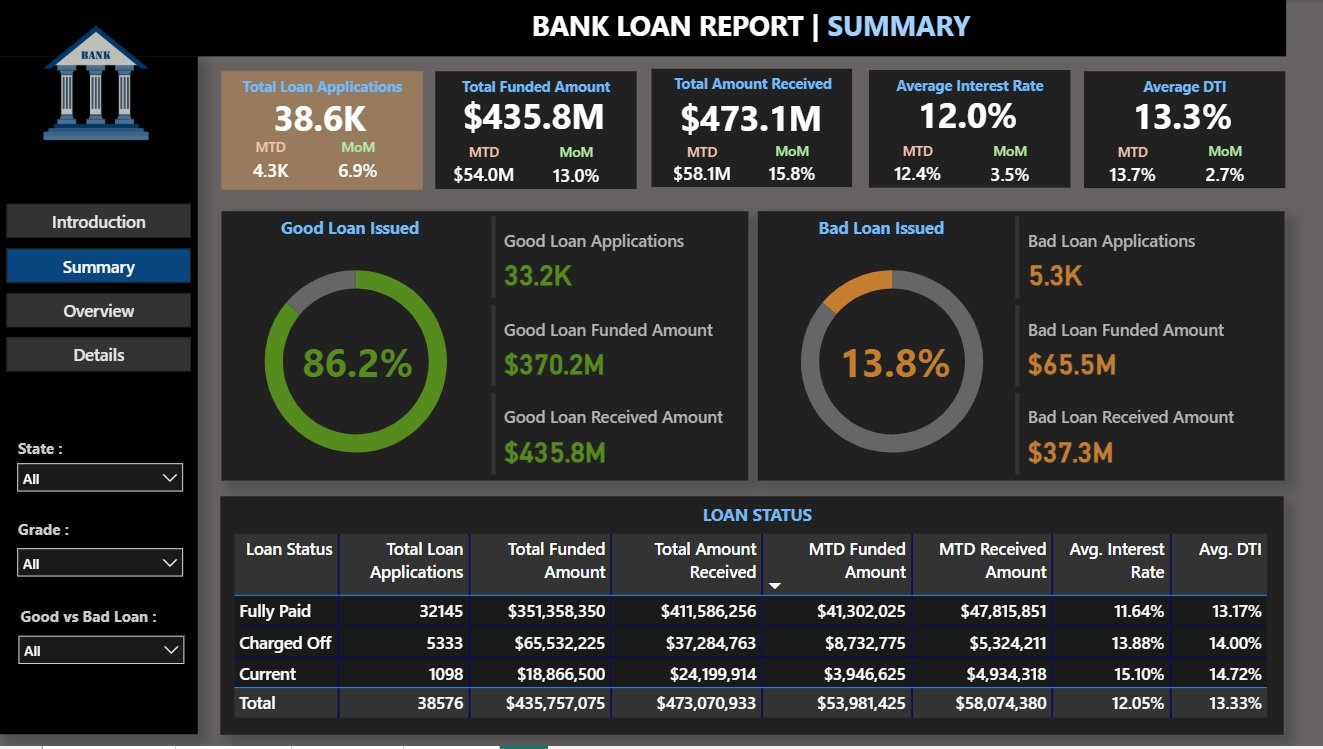

Layout of this report page (visuals, bound fields, positions):
{"tool":"powerbi","page":{"name":"Summary","canvas":[1280,720],"ordinal":1},"visuals":[{"type":"shape","box":[629.2,66.4,193.8,114.2],"z":0,"group":"g3"},{"type":"shape","box":[839.7,67.5,194.5,114],"z":0,"group":"g4"},{"type":"shape","box":[214.3,68.6,194.3,114.3],"z":0,"group":"g1"},{"type":"shape","box":[421.4,68.6,194.5,114],"z":0,"group":"g2"},{"type":"shape","box":[1047.1,68.6,194.5,113.1],"z":0,"group":"g5"},{"type":"shape","box":[214.3,204.3,508.6,260],"z":0},{"type":"card","fields":{"Values":["table_measures.avg_interest_rate"]},"box":[851.5,82.1,165.9,58.4],"z":1000,"group":"g4"},{"type":"card","fields":{"Values":["table_measures.avg_DTI"]},"box":[1058.9,83.1,165.9,57.9],"z":1000,"group":"g5"},{"type":"card","fields":{"Values":["table_measures.total_loan_appl"]},"box":[247.2,83.2,124.3,61.3],"z":1000,"group":"g1"},{"type":"card","fields":{"Values":["table_measures.total_funded_amt"]},"box":[433.2,83.2,165.9,58.4],"z":1000,"group":"g2"},{"type":"card","fields":{"Values":["table_measures.total_received_amt"]},"box":[643.2,85.3,163.1,55.8],"z":1000,"group":"g3"},{"type":"donutChart","fields":{"Category":["financial_loan.Good vs Band Loan"],"Y":["table_measures.total_loan_appl"]},"box":[220,234.3,250,230],"z":1000},{"type":"shape","box":[0,0,1242.3,54.5],"z":2000},{"type":"textbox","box":[632.2,67,191,41.6],"z":2000,"group":"g3"},{"type":"textbox","box":[839.7,67.5,194.5,38.9],"z":2000,"group":"g4"},{"type":"textbox","box":[214.3,68.6,194.3,39],"z":2000,"group":"g1"},{"type":"textbox","box":[421.4,68.6,194.5,38.9],"z":2000,"group":"g2"},{"type":"textbox","box":[1047.1,68.6,194.5,38.6],"z":2000,"group":"g5"},{"type":"shape","box":[0,54.7,191.9,654.7],"z":3000},{"type":"card","title":"MTD","fields":{"Values":["table_measures.MTD_loan_appl"]},"box":[235.7,132.7,51.4,50.2],"z":3000,"group":"g1"},{"type":"card","title":"MTD","fields":{"Values":["table_measures.MTD_interest_rate"]},"box":[851.5,136.3,70.1,48.6],"z":3000,"group":"g4"},{"type":"card","title":"MTD","fields":{"Values":["table_measures.MTD_avg_DTI"]},"box":[1058.9,136.9,70.1,48.3],"z":3000,"group":"g5"},{"type":"card","title":"MTD","fields":{"Values":["table_measures.MTD_received_amt"]},"box":[643.2,137.1,68.9,46.5],"z":3000,"group":"g3"},{"type":"card","title":"MTD","fields":{"Values":["table_measures.MTD_funded_amt"]},"box":[433.2,137.4,70.1,48.6],"z":3000,"group":"g2"},{"type":"card","title":"MoM","fields":{"Values":["table_measures.MOM_loan_appl"]},"box":[320,132.7,51.4,50.2],"z":4000,"group":"g1"},{"type":"card","title":"MoM","fields":{"Values":["table_measures.MOM_interest_rate"]},"box":[946.6,136.1,57.8,49.7],"z":4000,"group":"g4"},{"type":"card","title":"MoM","fields":{"Values":["table_measures.MOM_avg_DTI"]},"box":[1154,136.7,57.8,49.3],"z":4000,"group":"g5"},{"type":"card","title":"MoM","fields":{"Values":["table_measures.MOM_received_amt"]},"box":[736.7,136.9,56.8,47.5],"z":4000,"group":"g3"},{"type":"card","title":"MoM","fields":{"Values":["table_measures.MOM_funded_amt"]},"box":[528.3,137.2,57.8,49.7],"z":4000,"group":"g2"},{"type":"textbox","box":[13.8,417,119.7,38.5],"z":4000},{"type":"textbox","box":[235.7,204.3,207.1,34.3],"z":5000},{"type":"card","fields":{"Values":["table_measures.good_loan_per"]},"box":[287.1,321.4,118.6,57.1],"z":6000},{"type":"textbox","box":[509.2,1.4,447.3,49.5],"z":7000},{"type":"group","id":"g1","title":"Group 1","box":[214.3,68.6,194.3,114.3],"z":8000},{"type":"group","id":"g2","title":"Group 1","box":[421.4,68.6,194.3,118],"z":9000},{"type":"group","id":"g3","title":"Group 1","box":[629.2,66.4,194,118],"z":10000},{"type":"group","id":"g4","title":"Group 1","box":[839.7,67.5,194.5,118.2],"z":11000},{"type":"group","id":"g5","title":"Group 1","box":[1047.1,68.6,194.3,117.1],"z":12000},{"type":"shape","box":[732.9,204.3,508.6,260],"z":13000},{"type":"cardVisual","fields":{"Data":["table_measures.good_loan_appl","table_measures.good_loan_funded_amt","table_measures.good_loan_received_amt"]},"box":[470,204.3,252.9,260],"z":14000},{"type":"donutChart","fields":{"Category":["financial_loan.Good vs Band Loan"],"Y":["table_measures.total_loan_appl"]},"box":[737.1,234.3,250,230],"z":15000},{"type":"card","fields":{"Values":["table_measures.bad_loan_per"]},"box":[805.7,321.4,118.6,57.1],"z":16000},{"type":"textbox","box":[748.6,204.3,207.1,34.3],"z":17000},{"type":"cardVisual","fields":{"Data":["table_measures.bad_loan_appl","table_measures.bad_loan_funded_amt","table_measures.bad_loan_received_amt"]},"box":[975.7,204.3,252.9,260],"z":18000},{"type":"shape","box":[214,479.1,1026.7,230.2],"z":19000},{"type":"tableEx","fields":{"Values":["financial_loan.loan_status","table_measures.total_loan_appl","table_measures.total_funded_amt","table_measures.total_received_amt","table_measures.MTD_funded_amt","table_measures.MTD_received_amt","table_measures.avg_interest_rate","table_measures.avg_DTI"]},"box":[220.4,509.8,1008.5,200.4],"z":20000},{"type":"textbox","box":[646.8,479.8,170.3,34.5],"z":21000},{"type":"slicer","fields":{"Values":["financial_loan.address_state"]},"box":[6.9,436.3,180.3,50.9],"z":22000},{"type":"slicer","fields":{"Values":["financial_loan.grade"]},"box":[6.9,518.9,180.3,50.9],"z":23000},{"type":"textbox","box":[13.8,495.5,119.7,38.5],"z":24000},{"type":"pageNavigator","box":[6.9,196.8,178.9,163.8],"z":25000},{"type":"image","box":[0,1.4,187.2,156.9],"z":26000},{"type":"slicer","fields":{"Values":["financial_loan.Good vs Band Loan"]},"box":[8.3,602.8,180.3,50.9],"z":27000},{"type":"textbox","box":[15.1,579.4,163.8,38.5],"z":28000}]}

Visuals, with their boxes in screenshot pixels (x1, y1, x2, y2), scaled from the page's 1280x720 canvas onto the 1323x749 screenshot:
shape: (x1=650, y1=69, x2=851, y2=188)
shape: (x1=868, y1=70, x2=1069, y2=189)
shape: (x1=221, y1=71, x2=422, y2=190)
shape: (x1=436, y1=71, x2=637, y2=190)
shape: (x1=1082, y1=71, x2=1283, y2=189)
shape: (x1=221, y1=213, x2=747, y2=483)
card - table_measures.avg_interest_rate: (x1=880, y1=85, x2=1052, y2=146)
card - table_measures.avg_DTI: (x1=1094, y1=86, x2=1266, y2=147)
card - table_measures.total_loan_appl: (x1=256, y1=87, x2=384, y2=150)
card - table_measures.total_funded_amt: (x1=448, y1=87, x2=619, y2=147)
card - table_measures.total_received_amt: (x1=665, y1=89, x2=833, y2=147)
donutChart - financial_loan.Good vs Band Loan x table_measures.total_loan_appl: (x1=227, y1=244, x2=486, y2=483)
shape: (x1=0, y1=0, x2=1284, y2=57)
textbox: (x1=653, y1=70, x2=851, y2=113)
textbox: (x1=868, y1=70, x2=1069, y2=111)
textbox: (x1=221, y1=71, x2=422, y2=112)
textbox: (x1=436, y1=71, x2=637, y2=112)
textbox: (x1=1082, y1=71, x2=1283, y2=112)
shape: (x1=0, y1=57, x2=198, y2=738)
"MTD" card: (x1=244, y1=138, x2=297, y2=190)
"MTD" card: (x1=880, y1=142, x2=953, y2=192)
"MTD" card: (x1=1094, y1=142, x2=1167, y2=193)
"MTD" card: (x1=665, y1=143, x2=736, y2=191)
"MTD" card: (x1=448, y1=143, x2=520, y2=193)
"MoM" card: (x1=331, y1=138, x2=384, y2=190)
"MoM" card: (x1=978, y1=142, x2=1038, y2=193)
"MoM" card: (x1=1193, y1=142, x2=1253, y2=193)
"MoM" card: (x1=761, y1=142, x2=820, y2=192)
"MoM" card: (x1=546, y1=143, x2=606, y2=194)
textbox: (x1=14, y1=434, x2=138, y2=474)
textbox: (x1=244, y1=213, x2=458, y2=248)
card - table_measures.good_loan_per: (x1=297, y1=334, x2=419, y2=394)
textbox: (x1=526, y1=1, x2=989, y2=53)
"Group 1" group: (x1=221, y1=71, x2=422, y2=190)
"Group 1" group: (x1=436, y1=71, x2=636, y2=194)
"Group 1" group: (x1=650, y1=69, x2=851, y2=192)
"Group 1" group: (x1=868, y1=70, x2=1069, y2=193)
"Group 1" group: (x1=1082, y1=71, x2=1283, y2=193)
shape: (x1=758, y1=213, x2=1283, y2=483)
cardVisual - table_measures.good_loan_appl x table_measures.good_loan_funded_amt: (x1=486, y1=213, x2=747, y2=483)
donutChart - financial_loan.Good vs Band Loan x table_measures.total_loan_appl: (x1=762, y1=244, x2=1020, y2=483)
card - table_measures.bad_loan_per: (x1=833, y1=334, x2=955, y2=394)
textbox: (x1=774, y1=213, x2=988, y2=248)
cardVisual - table_measures.bad_loan_appl x table_measures.bad_loan_funded_amt: (x1=1008, y1=213, x2=1270, y2=483)
shape: (x1=221, y1=498, x2=1282, y2=738)
tableEx - financial_loan.loan_status x table_measures.total_loan_appl: (x1=228, y1=530, x2=1270, y2=739)
textbox: (x1=669, y1=499, x2=845, y2=535)
slicer - financial_loan.address_state: (x1=7, y1=454, x2=193, y2=507)
slicer - financial_loan.grade: (x1=7, y1=540, x2=193, y2=593)
textbox: (x1=14, y1=515, x2=138, y2=556)
pageNavigator: (x1=7, y1=205, x2=192, y2=375)
image: (x1=0, y1=1, x2=193, y2=165)
slicer - financial_loan.Good vs Band Loan: (x1=9, y1=627, x2=195, y2=680)
textbox: (x1=16, y1=603, x2=185, y2=643)
